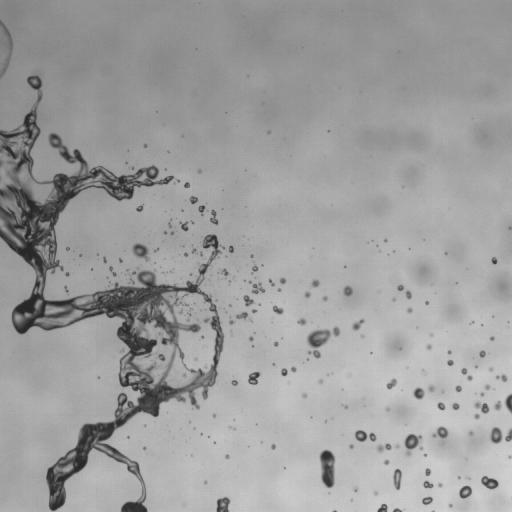droplet: (306, 326, 340, 358), (404, 434, 423, 456), (489, 427, 511, 443), (494, 393, 511, 413), (132, 243, 149, 261), (481, 475, 498, 489), (216, 497, 230, 511), (432, 426, 448, 438), (474, 401, 489, 413), (248, 371, 260, 385), (459, 485, 471, 498), (252, 282, 264, 294), (413, 387, 424, 399), (243, 295, 254, 306), (386, 378, 396, 389), (272, 305, 283, 314), (219, 268, 229, 277), (343, 286, 352, 296), (496, 374, 507, 382), (422, 496, 433, 504), (179, 221, 188, 230), (423, 480, 433, 488), (236, 312, 247, 319), (377, 504, 387, 511), (311, 279, 319, 287), (437, 402, 445, 410), (297, 318, 306, 325), (189, 196, 197, 203), (198, 205, 205, 213), (405, 290, 411, 299), (136, 204, 143, 211), (479, 350, 486, 357), (452, 403, 459, 410), (252, 264, 258, 272), (491, 257, 497, 264), (304, 291, 311, 297), (281, 368, 287, 375), (425, 468, 431, 475), (228, 245, 233, 253), (280, 277, 286, 283), (428, 385, 434, 391), (455, 385, 461, 391), (484, 384, 490, 390), (397, 285, 403, 290), (447, 360, 453, 365), (291, 366, 296, 372), (231, 380, 237, 385), (184, 182, 189, 187), (407, 308, 412, 313), (229, 319, 234, 324), (273, 341, 278, 346), (426, 344, 431, 349), (302, 393, 307, 398), (474, 414, 479, 419), (192, 248, 196, 253), (322, 296, 327, 300), (249, 336, 253, 341), (488, 367, 493, 371), (271, 444, 275, 449), (349, 444, 353, 449), (384, 460, 389, 464), (438, 482, 442, 487), (197, 169, 201, 173), (154, 248, 158, 252), (490, 336, 494, 340), (480, 392, 484, 396), (469, 431, 473, 435), (395, 444, 399, 448), (225, 454, 229, 458), (168, 223, 171, 228), (103, 257, 106, 262), (64, 286, 67, 291), (143, 144, 147, 147), (175, 179, 179, 182), (170, 231, 174, 234), (252, 309, 256, 312), (319, 379, 322, 383), (343, 405, 347, 408), (354, 487, 357, 491), (374, 491, 377, 495), (66, 247, 69, 250), (184, 253, 187, 256), (65, 273, 68, 276), (425, 301, 428, 304), (179, 310, 182, 313), (164, 231, 166, 234), (384, 239, 387, 241), (199, 252, 202, 254), (250, 255, 253, 257), (119, 259, 121, 262), (278, 288, 280, 291), (430, 333, 432, 336), (448, 351, 451, 353), (424, 453, 426, 456), (509, 455, 511, 458), (449, 504, 451, 507), (268, 131, 270, 133), (131, 167, 133, 169), (191, 221, 193, 223), (509, 227, 511, 229), (186, 318, 188, 320), (471, 321, 473, 323), (361, 335, 363, 337), (201, 336, 203, 338), (386, 408, 388, 410), (213, 414, 215, 416), (233, 428, 235, 430), (143, 447, 145, 449), (204, 481, 206, 483)
ligament: (0, 76, 224, 511), (0, 20, 13, 78), (319, 449, 335, 488), (354, 430, 376, 441), (393, 469, 401, 489), (376, 443, 391, 452), (352, 319, 364, 330), (461, 368, 472, 380), (210, 210, 218, 224), (109, 266, 117, 276), (268, 279, 274, 286), (392, 508, 403, 511), (0, 177, 1, 180), (333, 510, 336, 511)
